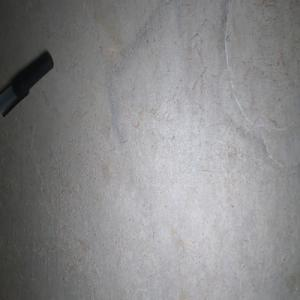Pen: (0, 51, 53, 117)
